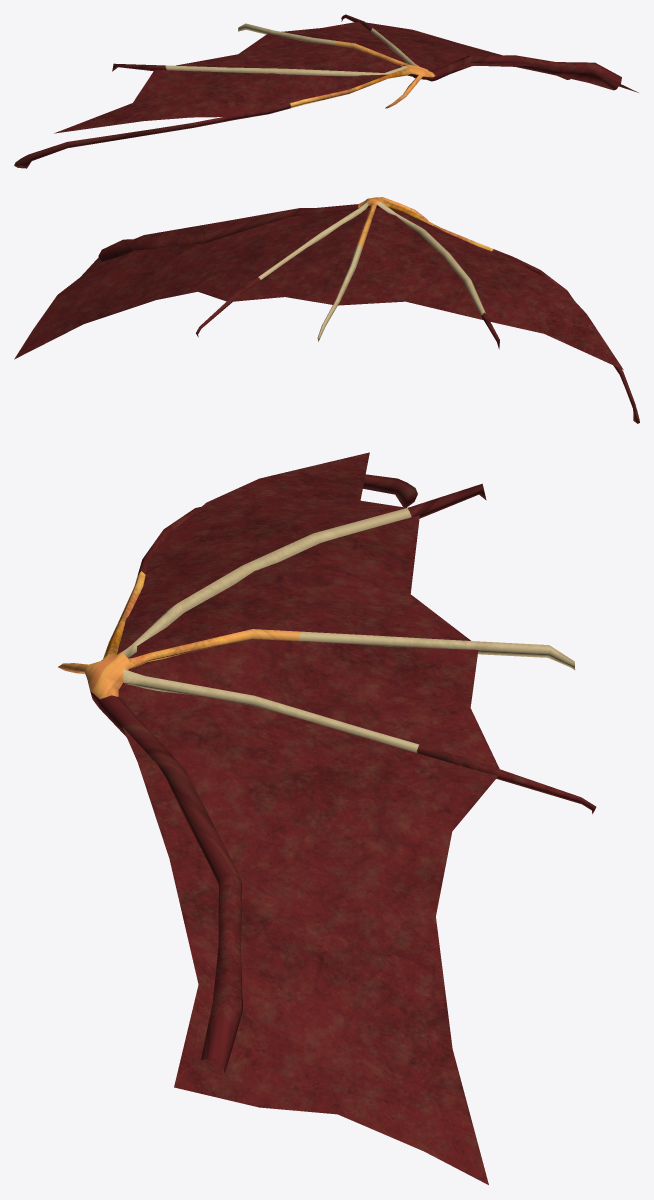
Rendered from RIGHTWING.obj.
3 renders of one model, top to bottom at view 1: azimuth 30°, elevation 25°; view 2: azimuth 150°, elevation 25°; view 3: azimuth 270°, elevation 25°, orthographic. The views are drawn at different scales.
Parts seen in each view (by area): view 1: Cylinder.001; view 2: Cylinder.001; view 3: Cylinder.001.
Boxes of the visible parts, bbox=[...] form: Cylinder.001: bbox=[14, 14, 638, 168]; Cylinder.001: bbox=[14, 197, 639, 423]; Cylinder.001: bbox=[58, 452, 596, 1184].
Size of the model in its own units: 56.15 by 13.72 by 22.95.
